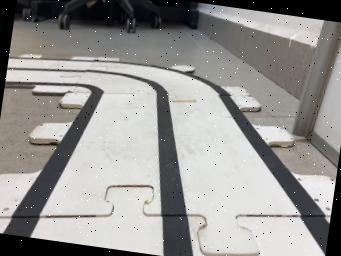street: (0, 55, 329, 256), (0, 55, 329, 256), (0, 55, 329, 256), (0, 55, 329, 256), (0, 55, 329, 256), (0, 55, 329, 256)
